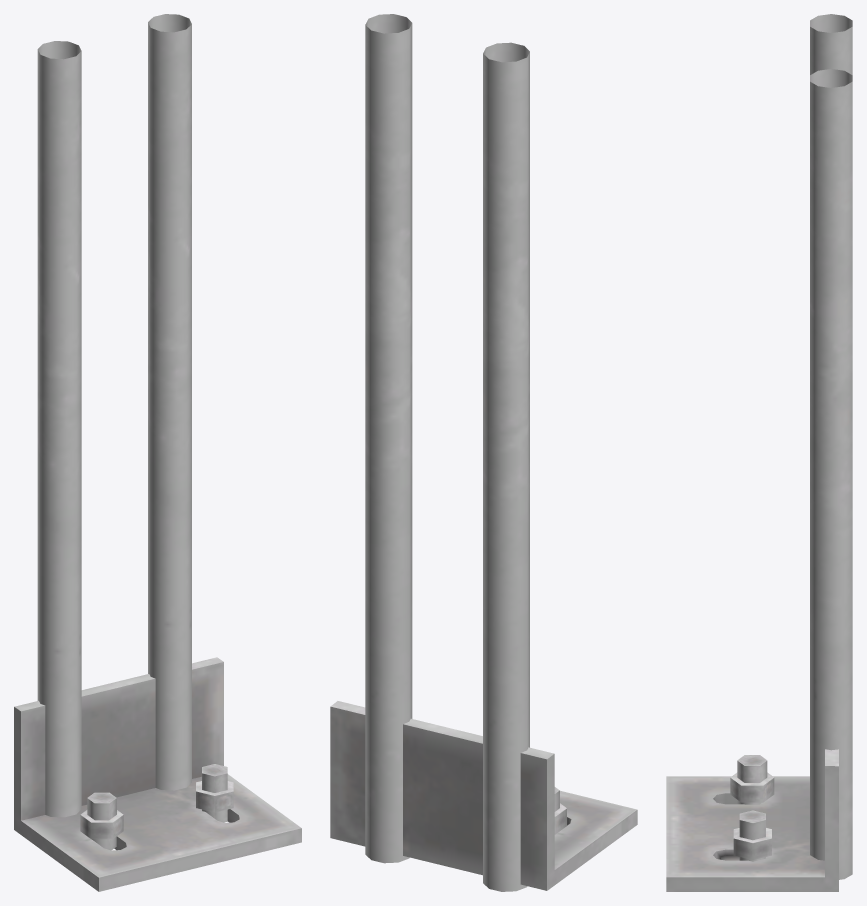
File: SM_Pipes_03o.glb
3 renders of one model, left to right at view 1: azimuth 30°, elevation 25°; view 2: azimuth 150°, elevation 25°; view 3: azimuth 270°, elevation 25°, orthographic. The views are drawn at different scales.
Visible parts, largest first — view 1: SM_Pipes_03o; view 2: SM_Pipes_03o; view 3: SM_Pipes_03o.
Boxes of the visible parts, box(x1,y1,x2,y2) form: SM_Pipes_03o: box(14, 14, 301, 891); SM_Pipes_03o: box(330, 14, 637, 891); SM_Pipes_03o: box(666, 14, 852, 891).
Bounding box in the file's own units: 0.1925 × 0.7043 × 0.1502.
Materials: 1 (1 with a texture image).
